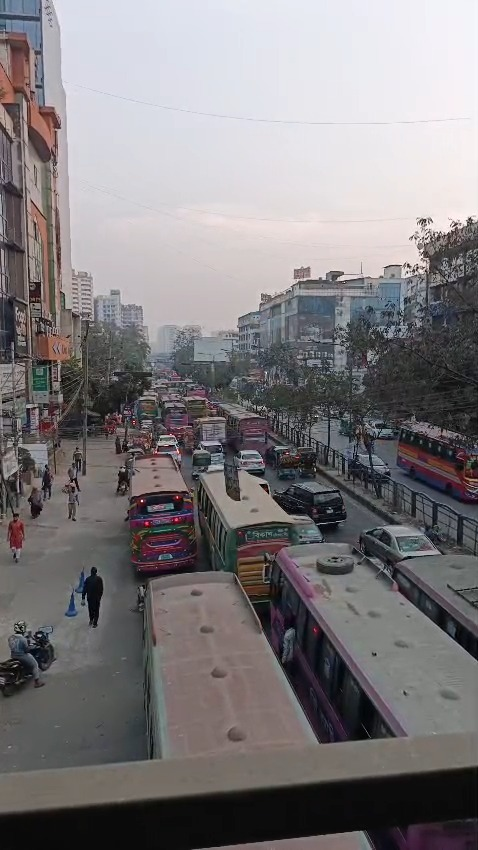Bikes: (7, 614, 64, 716)
Bus: (131, 352, 478, 850)
private car: (358, 510, 450, 568), (285, 471, 353, 545), (345, 441, 404, 491)
